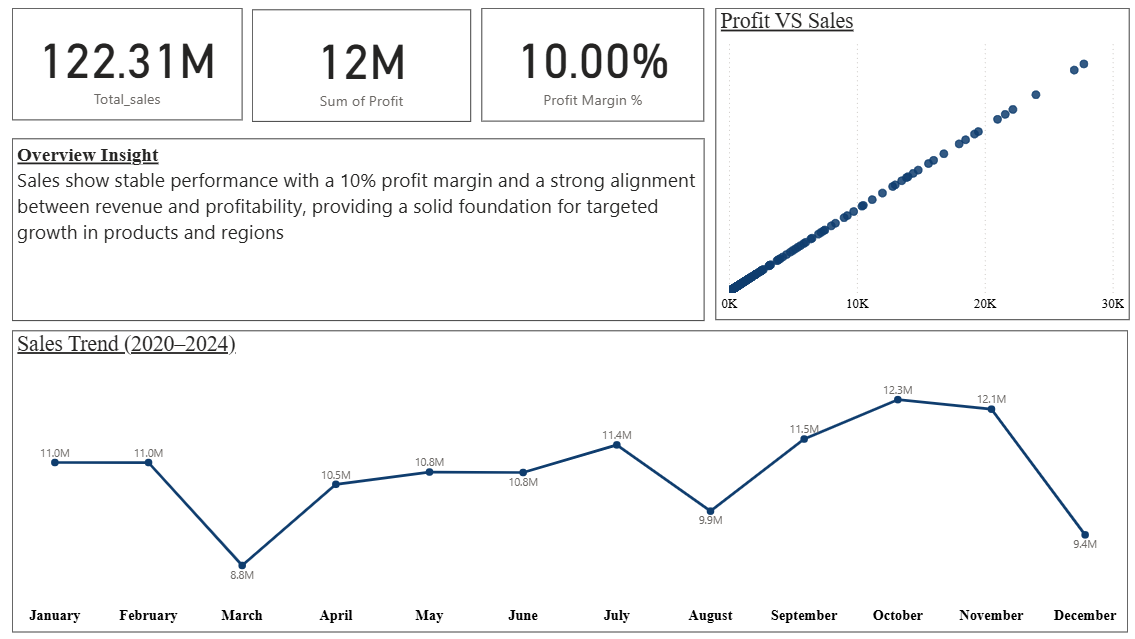

The page's visual inventory and layout, read from the dashboard file:
{"tool":"powerbi","page":{"name":"Overall Sales & Profit Performance","canvas":[1280,720],"ordinal":0},"visuals":[{"type":"lineChart","title":" Sales Trend (2020–2024)","fields":{"Category":["Date Table 1.Date.Variation.Date Hierarchy.Year","Date Table 1.Date.Variation.Date Hierarchy.Month"],"Y":["Sum(fact table.Total  Sales)"]},"box":[20,371.7,1240,335],"z":0},{"type":"scatterChart","title":"Profit  VS Sales","fields":{"X":["fact table.Profit"],"Y":["fact table.Net Sales"]},"box":[801.6,14,460.3,347],"z":1000},{"type":"card","fields":{"Values":["Date Table 1.Total_sales"]},"box":[19.6,14,256,124.5],"z":2000},{"type":"card","fields":{"Values":["Sum(fact table.Profit)"]},"box":[286.8,15.4,243.4,124.5],"z":3000},{"type":"card","fields":{"Values":["Date Table 1.Profit Margin %"]},"box":[541.4,14,247.6,125.9],"z":4000},{"type":"textbox","box":[19.6,158.1,769.4,202.9],"z":5000}]}

Visuals, with their boxes in screenshot pixels (x1, y1, x2, y2), scaled from the page's 1280x720 canvas onto the 1135x639 screenshot:
" Sales Trend (2020–2024)" lineChart: (18, 330, 1117, 627)
"Profit  VS Sales" scatterChart: (711, 12, 1119, 320)
card - Date Table 1.Total_sales: (17, 12, 244, 123)
card - Sum(fact table.Profit): (254, 14, 470, 124)
card - Date Table 1.Profit Margin %: (480, 12, 700, 124)
textbox: (17, 140, 700, 320)
